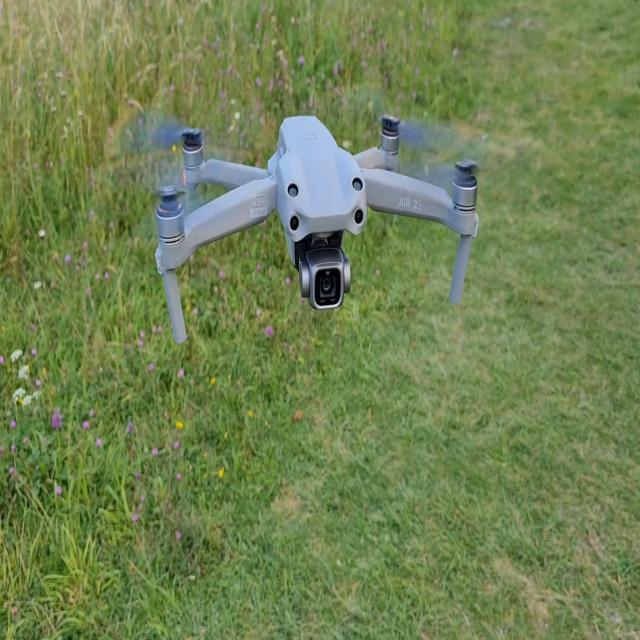drone: (151, 110, 480, 344)
